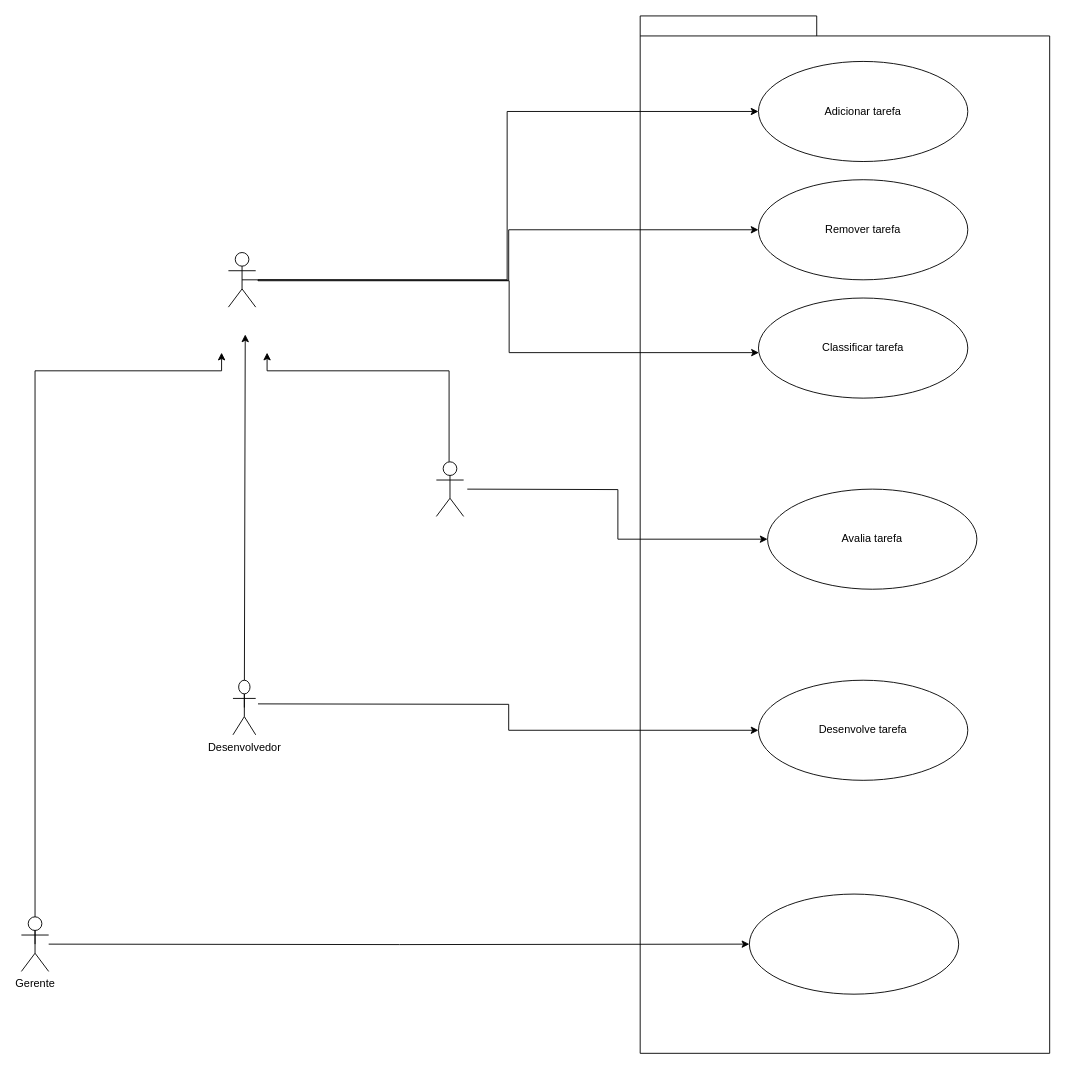
The diagram is 1066 pixels wide and 1077 high, and some of its shapes have lost their labels. Each missing label, with the centre of its shape:
"Avaliador" belongs at point (449, 488).
"Distribuir tarefa" belongs at point (853, 943).
"Funcionario" belongs at point (242, 279).
